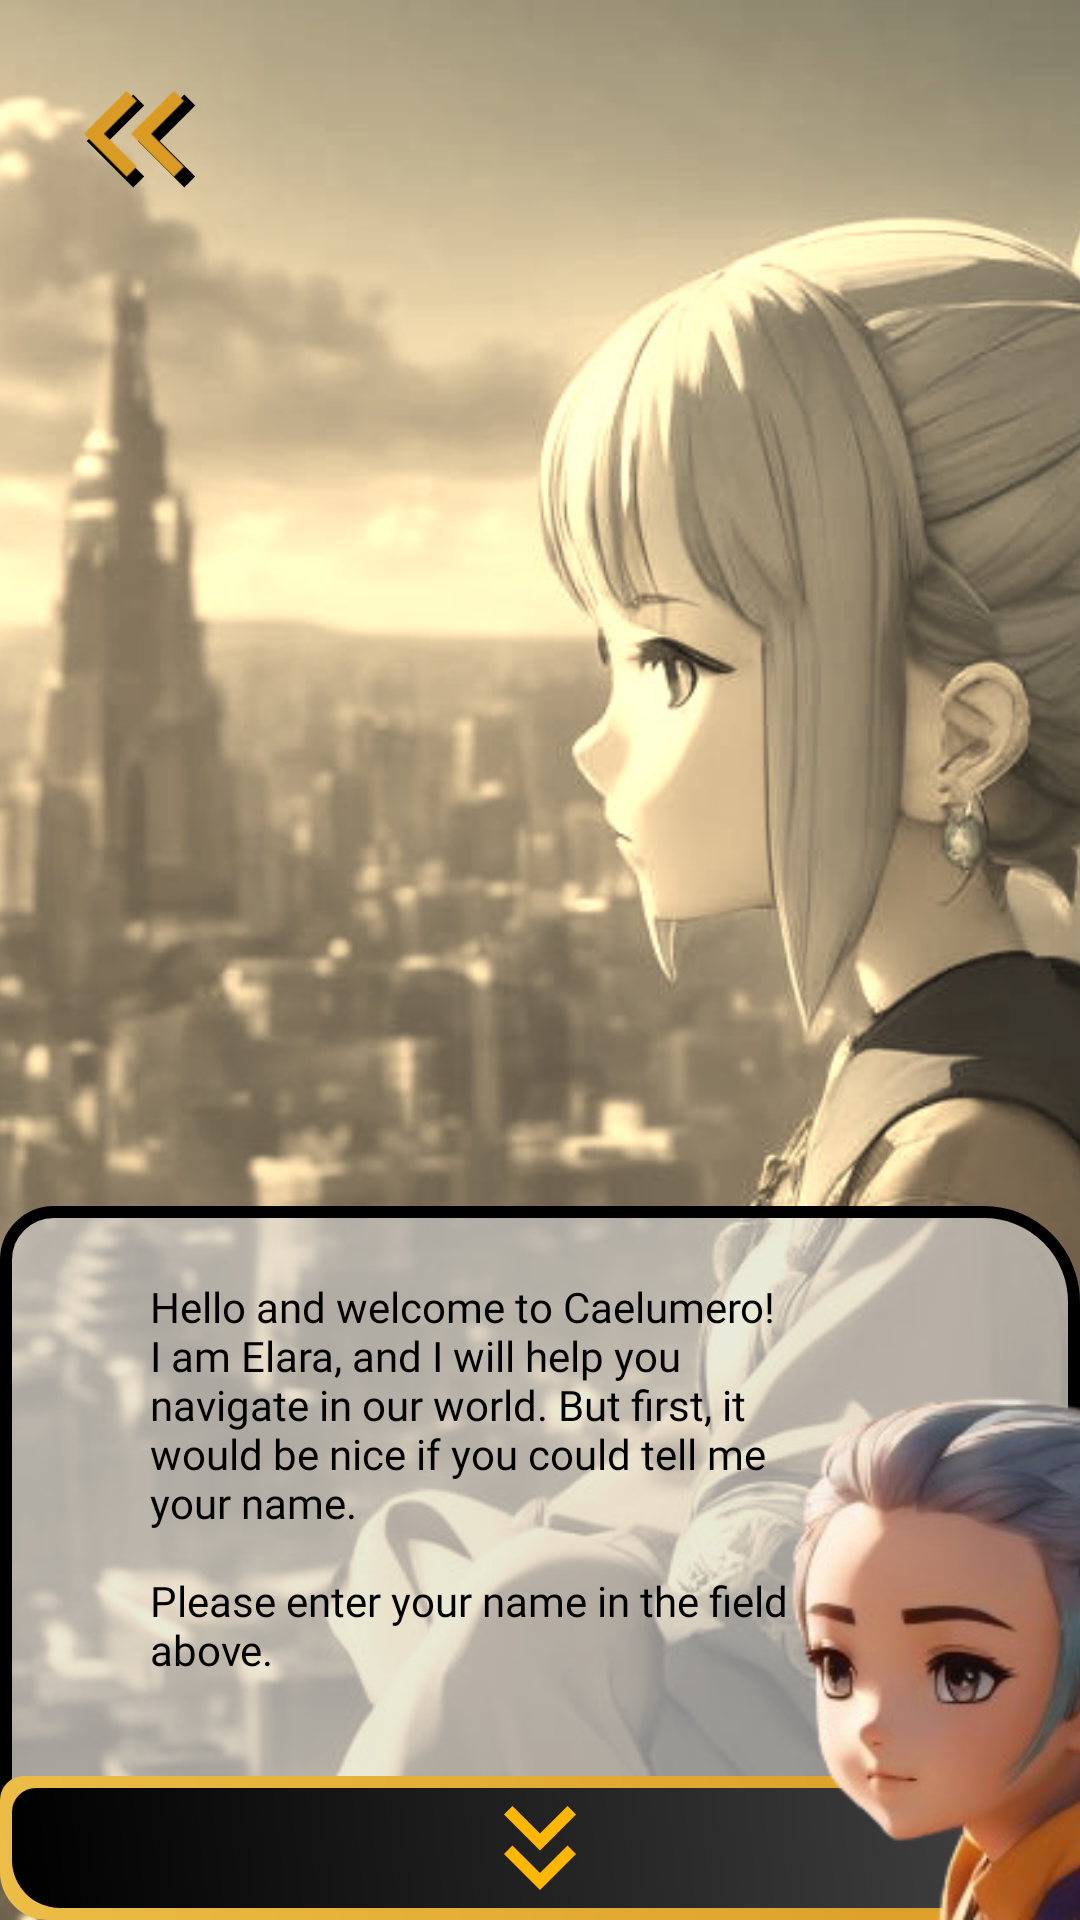

Point at icon controls on the screen. Image size 1080×1920, points as point (x, y).
chevron left: point (141, 141)
